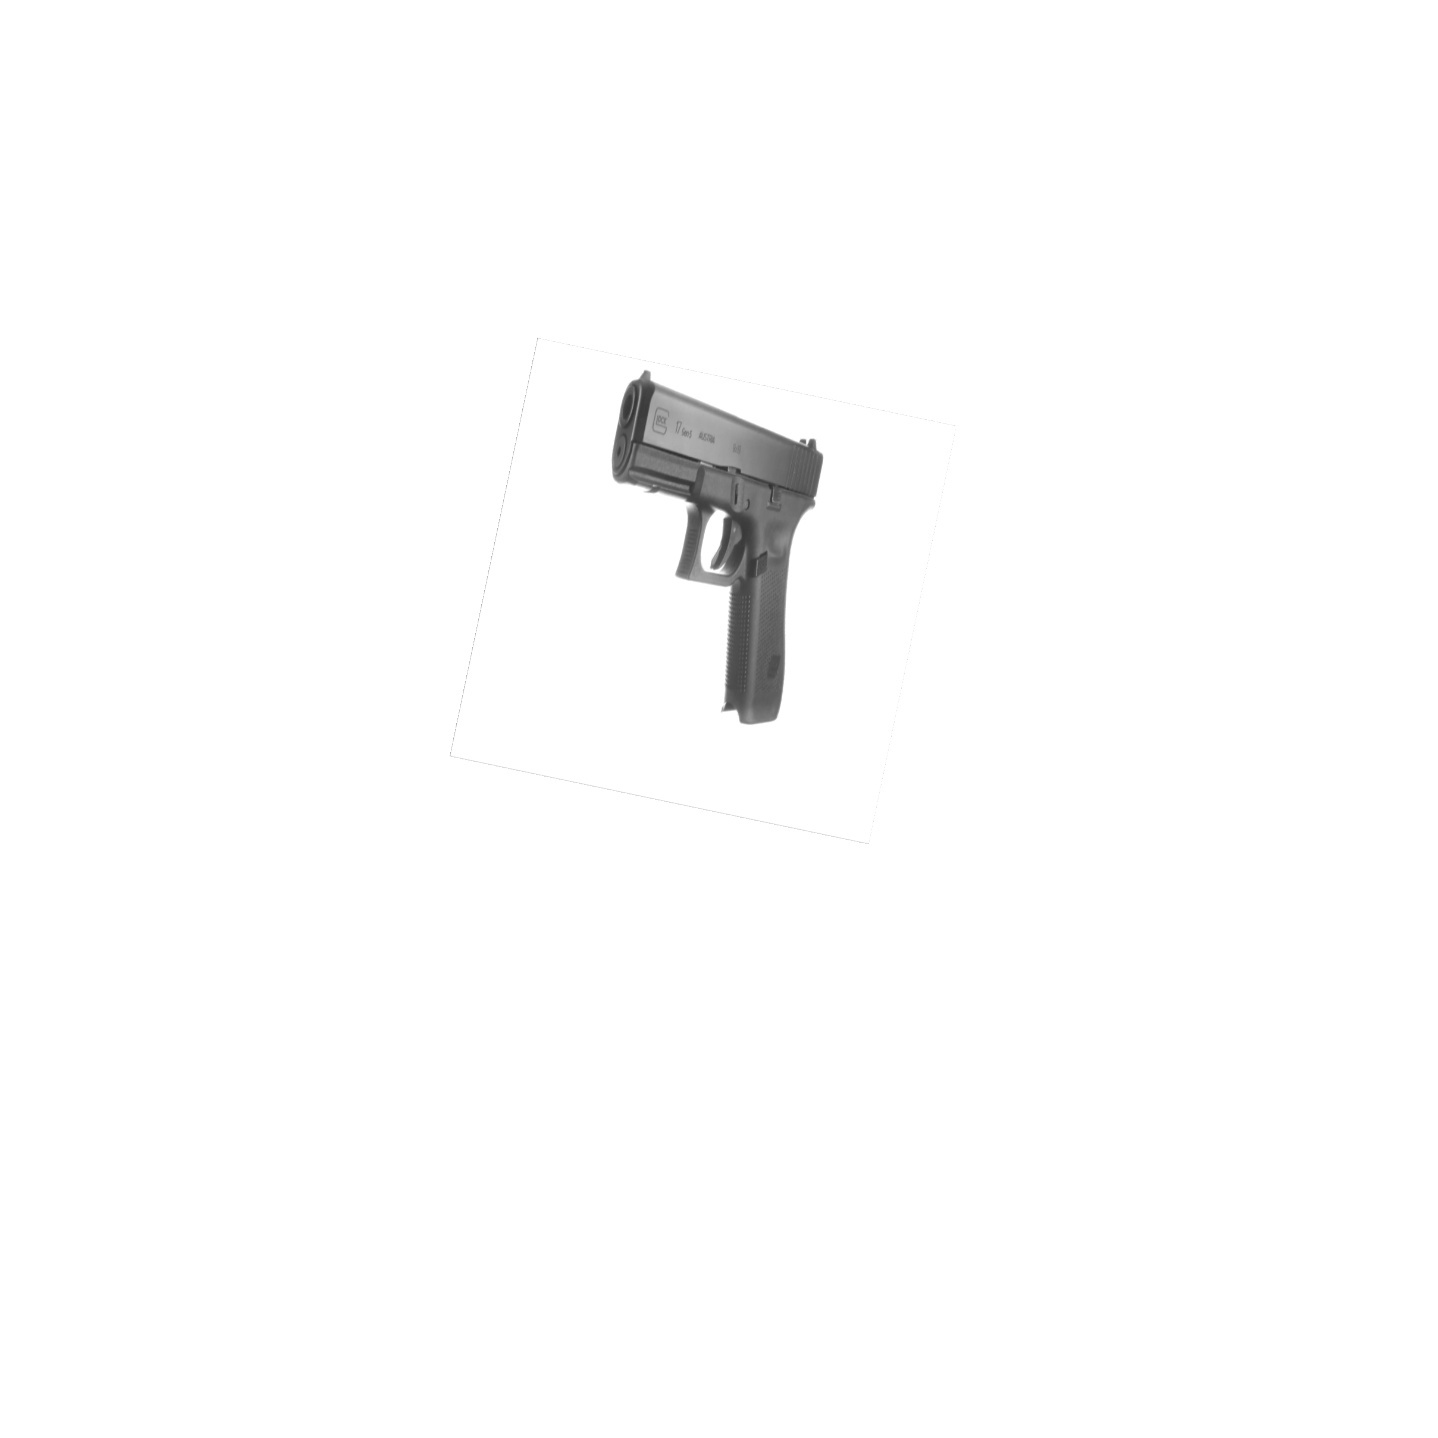gun: (611, 371, 822, 723)
